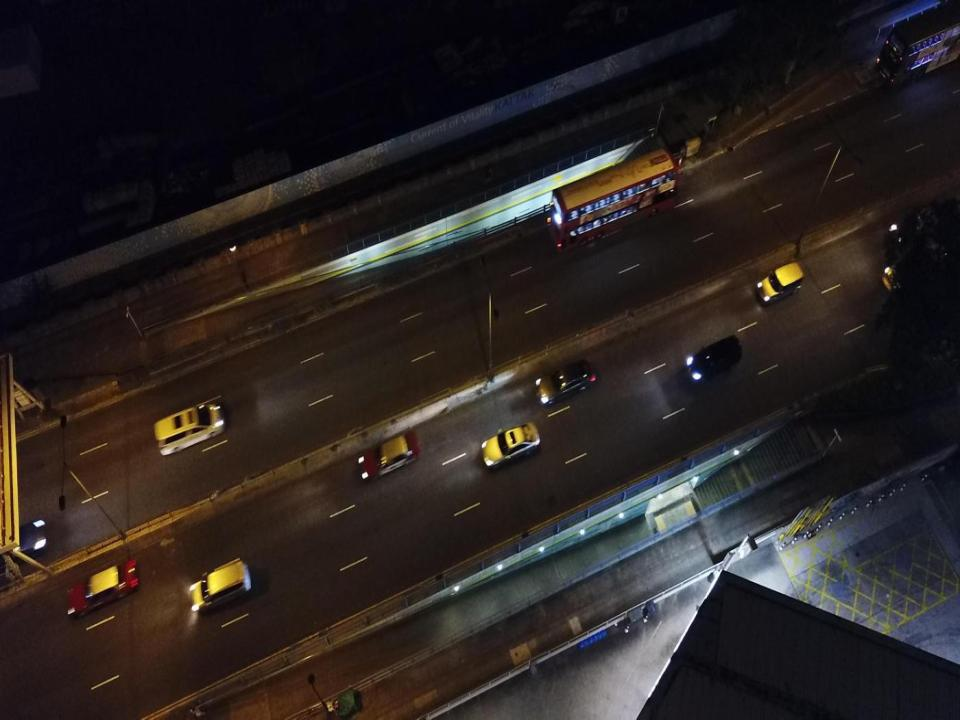bus: (546, 149, 680, 252), (875, 0, 960, 90)
car: (64, 555, 139, 616), (190, 554, 252, 611), (358, 428, 420, 481), (536, 356, 596, 406), (482, 421, 541, 465), (687, 337, 741, 384), (889, 203, 940, 249), (756, 260, 804, 306), (0, 516, 48, 558)
van: (153, 399, 226, 457), (882, 243, 952, 300)
